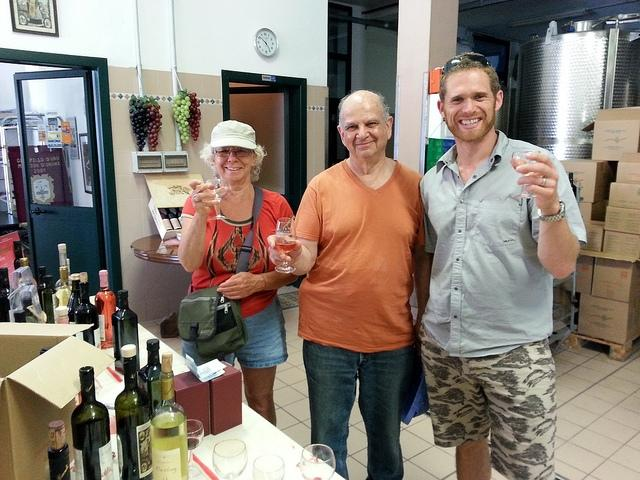grape: (175, 94, 181, 100), (150, 106, 156, 112), (150, 128, 156, 133), (129, 108, 134, 114), (184, 110, 189, 116), (149, 134, 154, 139), (147, 103, 152, 108), (182, 132, 188, 136), (153, 141, 158, 145), (151, 148, 156, 152), (178, 123, 182, 128), (192, 133, 196, 138), (132, 101, 136, 105), (197, 116, 201, 120), (150, 118, 154, 122), (172, 98, 176, 102), (146, 100, 150, 103), (135, 106, 138, 110), (136, 125, 140, 128), (179, 111, 182, 115), (177, 118, 180, 122), (144, 125, 148, 128), (188, 109, 190, 113), (136, 143, 139, 145), (135, 121, 137, 124), (195, 106, 197, 108)
